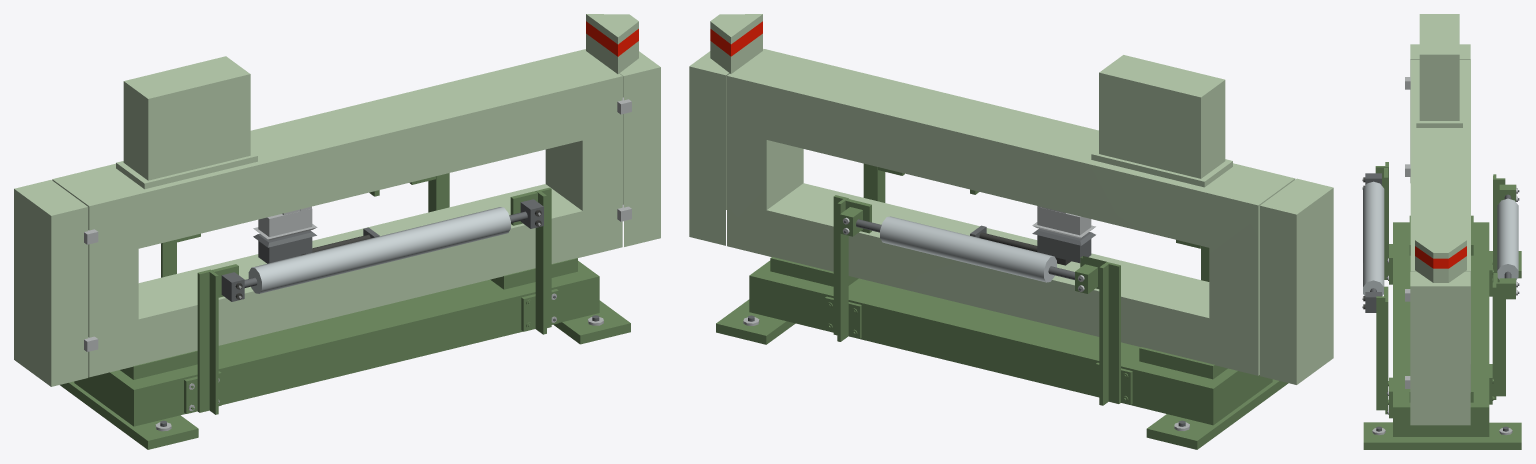
The model's file is FeelerGauge.FBX.
3 views of the same model, side by side, from view 1: azimuth 30°, elevation 25°; view 2: azimuth 150°, elevation 25°; view 3: azimuth 270°, elevation 25° (orthographic). The views are drawn at different scales.
Visible parts, largest first — view 1: Object_04_FeelerGauge; view 2: Object_04_FeelerGauge; view 3: Object_04_FeelerGauge.
Boxes of the visible parts, x1,y1,x2,y2 form: Object_04_FeelerGauge: (14, 14, 660, 449); Object_04_FeelerGauge: (689, 14, 1333, 449); Object_04_FeelerGauge: (1362, 14, 1521, 449).
Bounding box in the file's own units: 29.11 × 14.47 × 8.12.
